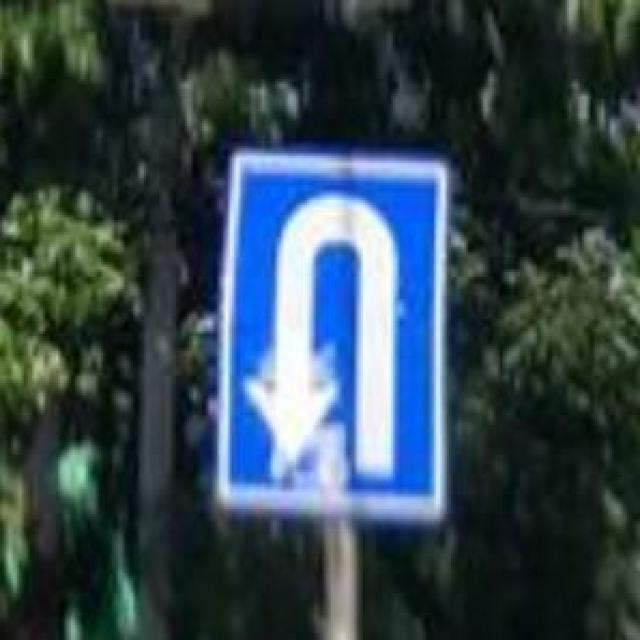U-turn: (234, 160, 441, 508)
